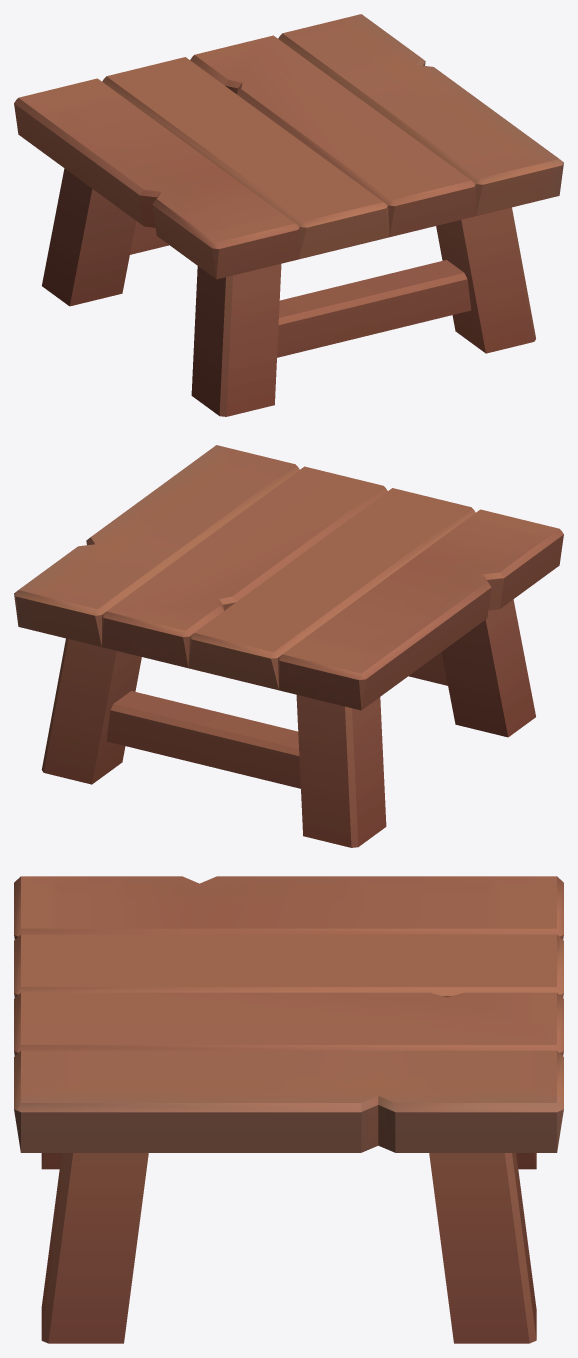
File: table_medium.glb
3 renders of one model, top to bottom at view 1: azimuth 30°, elevation 25°; view 2: azimuth 150°, elevation 25°; view 3: azimuth 270°, elevation 25°, orthographic. The views are drawn at different scales.
Parts seen in each view (by area): view 1: table_medium; view 2: table_medium; view 3: table_medium.
Part boxes in pixels (<box>): table_medium: <box>14,14,563,416</box>; table_medium: <box>14,445,563,847</box>; table_medium: <box>14,876,563,1343</box>.
Size of the model in its own units: 2 by 1 by 2.
1 material, 1 textured.
